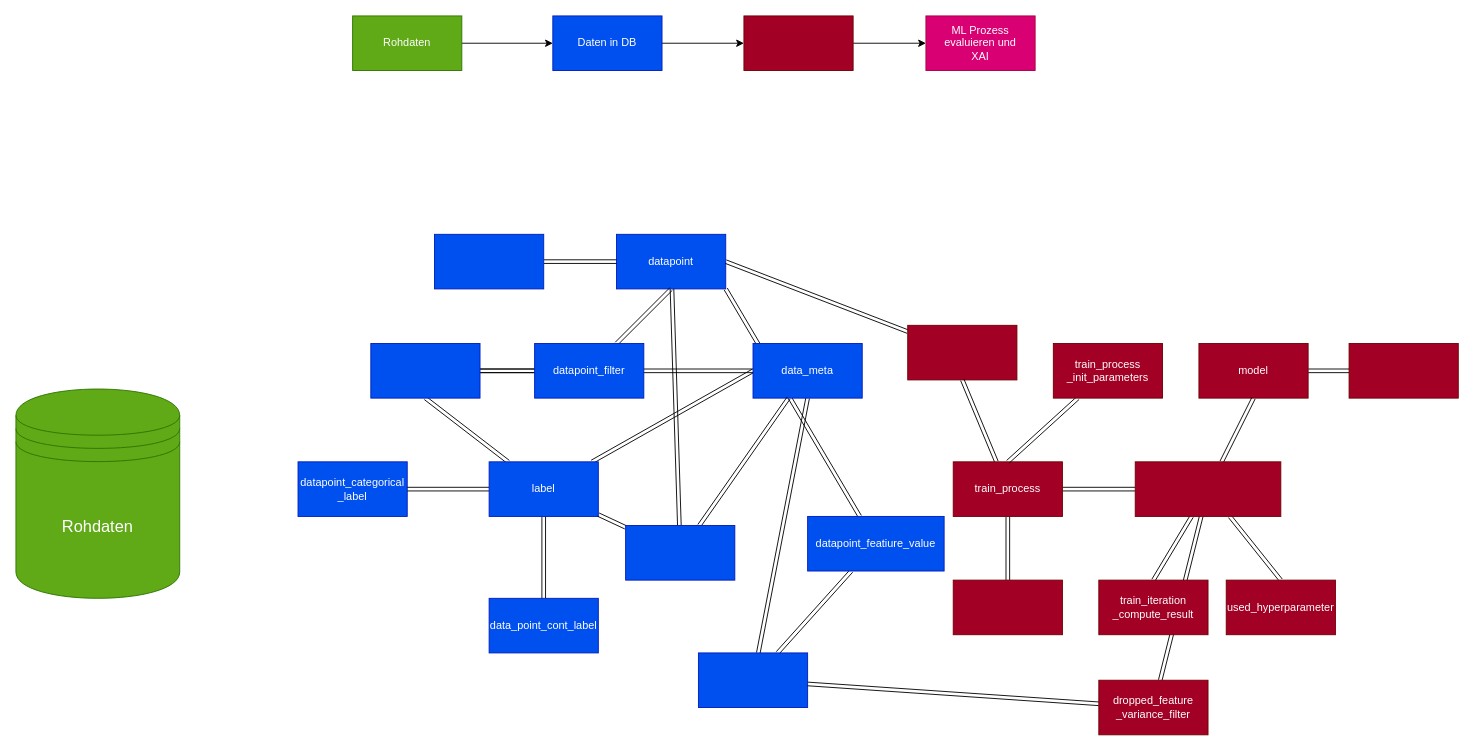
This 1474x751 diagram has some shape labels left out. The shapes that lost their labels are listed below. From the top down, each one's centre as x and y in pixels, then its label:
the point at 798,43: ML Prozess
the point at 489,261: time
the point at 425,370: filter
the point at 962,352: datapoint_train _process_junction
the point at 1403,370: prediction_categorical
the point at 1207,488: train_process_iteration
the point at 680,552: datapoint_mappings
the point at 1007,607: train_process_statistics
the point at 753,680: feature
